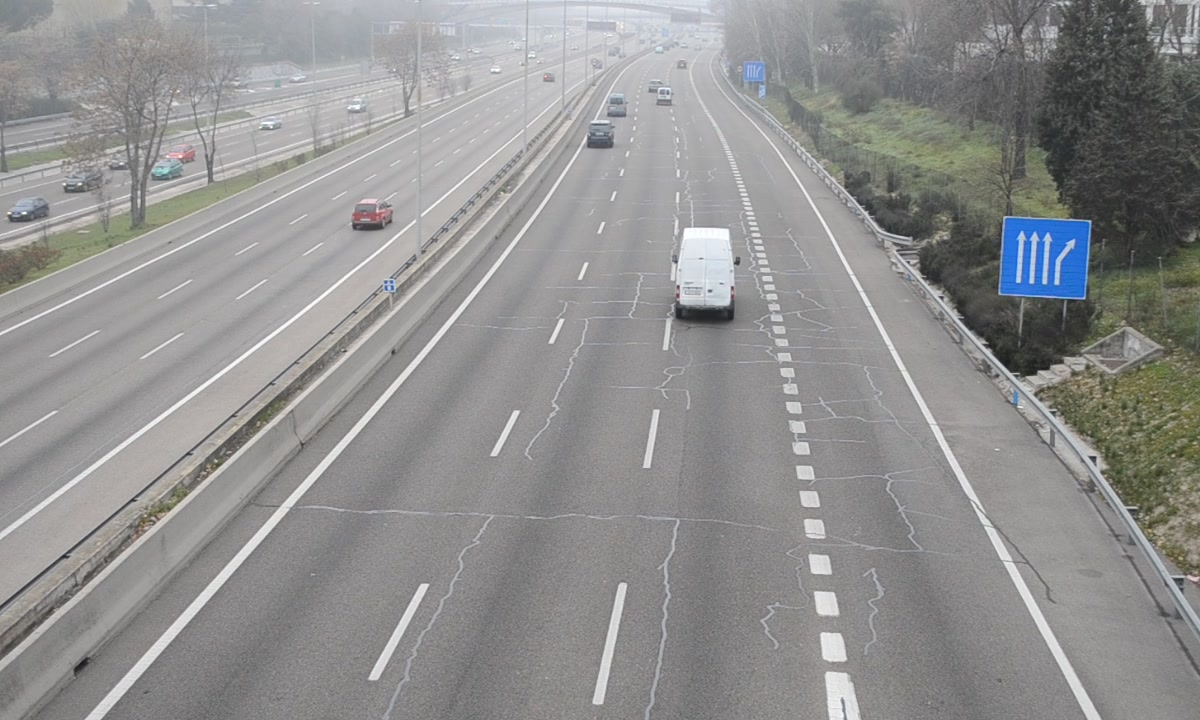car: (588, 120, 615, 149)
van: (675, 227, 738, 323), (607, 92, 625, 118)
